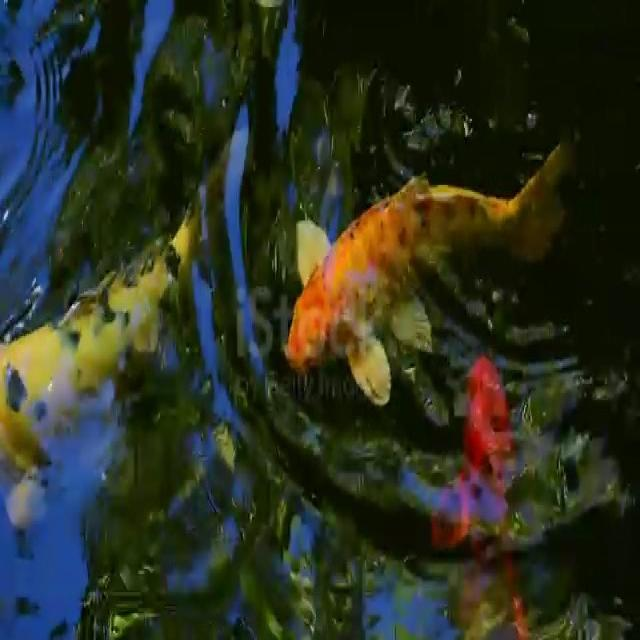fish: (281, 132, 577, 416), (0, 175, 230, 515), (433, 314, 544, 640)
